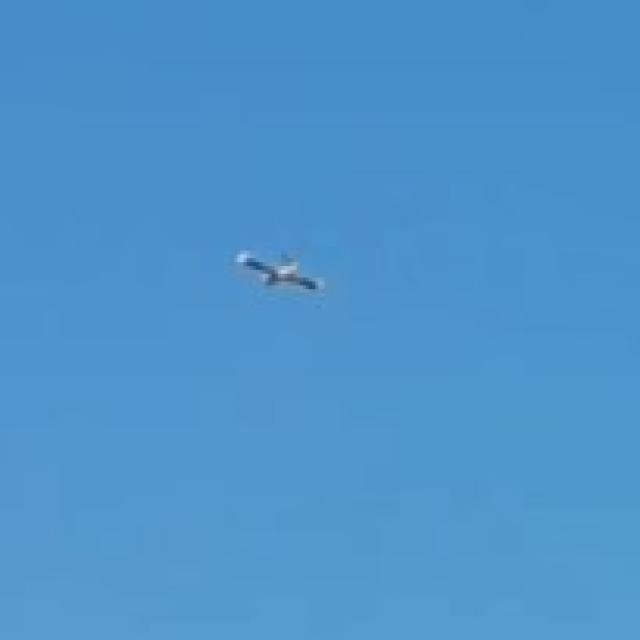iha: (270, 250, 289, 294)
